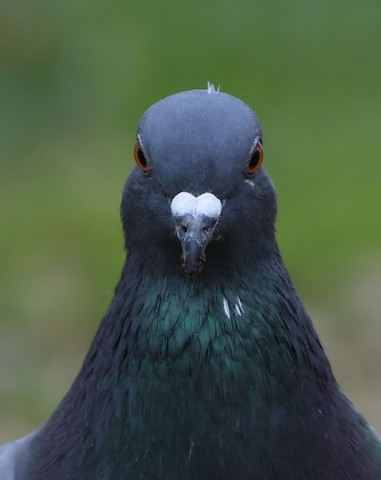pigeon: (12, 79, 366, 469)
